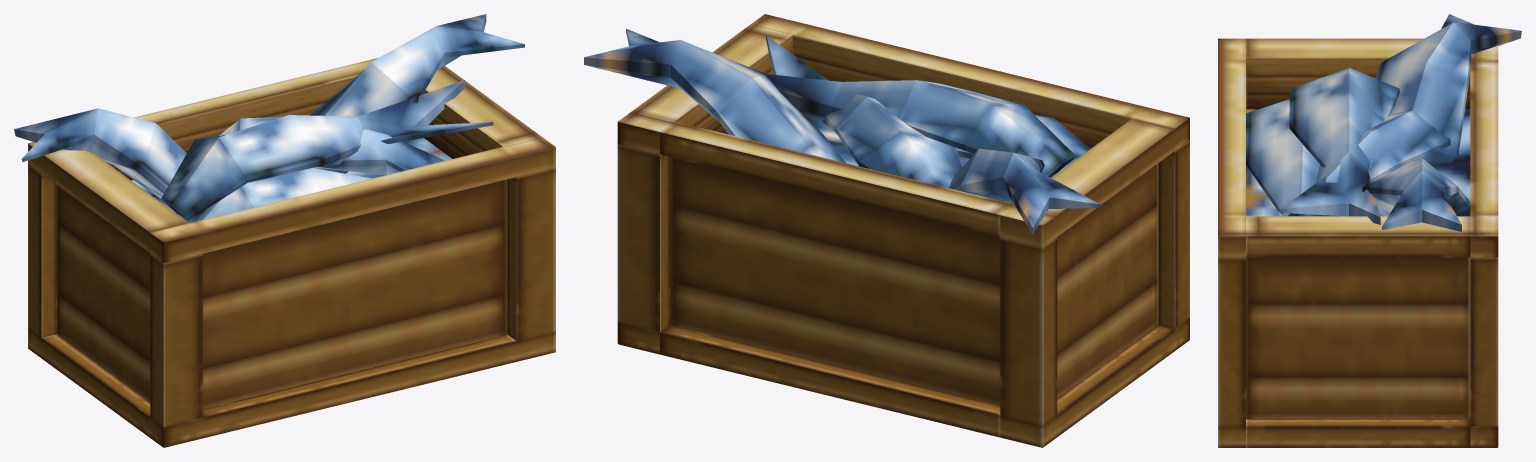
Rendered from Inside_Poly_Crate_06.obj.
The picture shows the model from 3 angles, left to right: view 1: azimuth 30°, elevation 25°; view 2: azimuth 150°, elevation 25°; view 3: azimuth 270°, elevation 25°; orthographic projection. The views are drawn at different scales.
Visible parts, largest first — view 1: Cube, Cube.001, Cube.002, Cube.003, Cube.005, Cube.004; view 2: Cube, Cube.001, Cube.002, Cube.004, Cube.003, Cube.005; view 3: Cube, Cube.001, Cube.003, Cube.005, Cube.002, Cube.004.
Boxes of the visible parts, box(x1,y1,x2,y2) form: Cube: box(28, 58, 555, 447); Cube.001: box(161, 80, 493, 220); Cube.002: box(310, 14, 524, 173); Cube.003: box(14, 108, 186, 198); Cube.005: box(185, 168, 372, 223); Cube.004: box(219, 116, 445, 175); Cube: box(617, 14, 1189, 447); Cube.001: box(765, 35, 1075, 177); Cube.002: box(584, 28, 845, 162); Cube.004: box(808, 93, 962, 187); Cube.003: box(948, 148, 1100, 234); Cube.005: box(956, 115, 1090, 177); Cube: box(1218, 38, 1498, 447); Cube.001: box(1281, 67, 1399, 224); Cube.003: box(1375, 14, 1521, 161); Cube.005: box(1246, 99, 1319, 216); Cube.002: box(1362, 158, 1470, 231); Cube.004: box(1288, 110, 1450, 216).
Bounding box in the file's own units: 1.2 × 0.6308 × 0.6504.
Materials: 1 (1 with a texture image).
